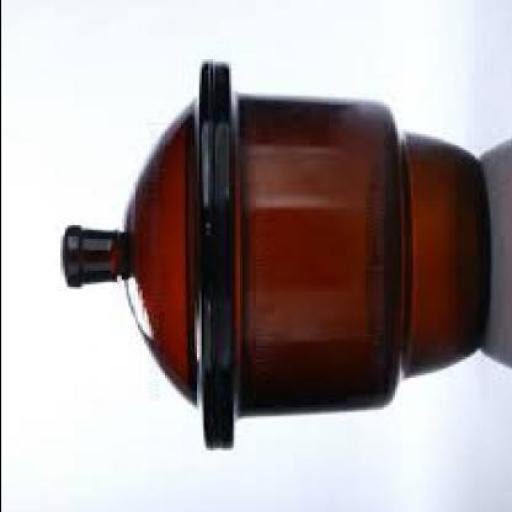glass: (56, 59, 488, 448), (214, 64, 492, 448), (59, 62, 209, 448)
